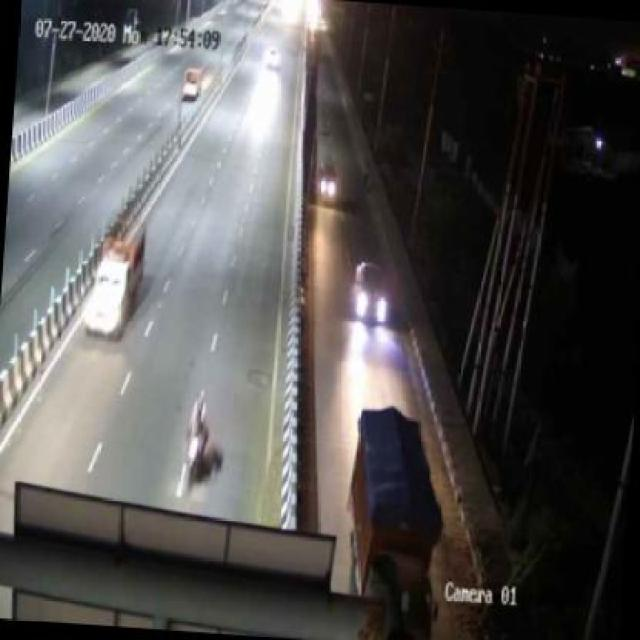car: (83, 217, 155, 341), (348, 262, 394, 328), (316, 156, 342, 207)
